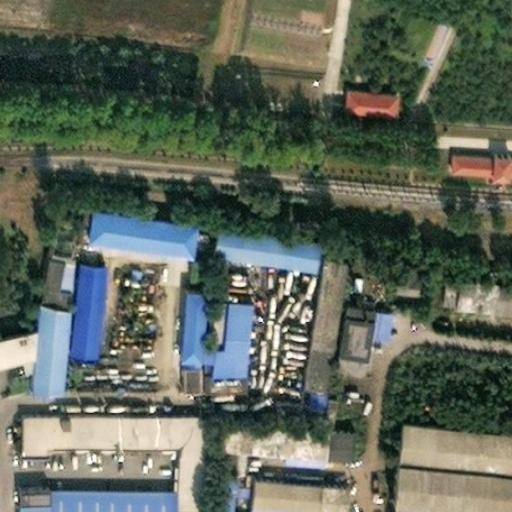building: (6, 405, 189, 512), (204, 407, 339, 462), (387, 416, 512, 471), (383, 459, 512, 511), (293, 249, 336, 382), (192, 290, 241, 386), (333, 301, 394, 378), (200, 220, 308, 261), (240, 468, 340, 512), (80, 201, 183, 243), (53, 253, 95, 350), (39, 478, 157, 507), (20, 296, 57, 384), (448, 268, 512, 307), (197, 465, 243, 512), (167, 279, 196, 352), (441, 142, 512, 171), (374, 499, 510, 512), (30, 244, 61, 298), (420, 16, 452, 60), (334, 82, 386, 107), (326, 385, 366, 414), (7, 477, 39, 512), (40, 205, 64, 246), (166, 351, 193, 384), (391, 270, 422, 295), (303, 388, 330, 413), (271, 394, 302, 413), (239, 506, 304, 512), (349, 272, 366, 291)
